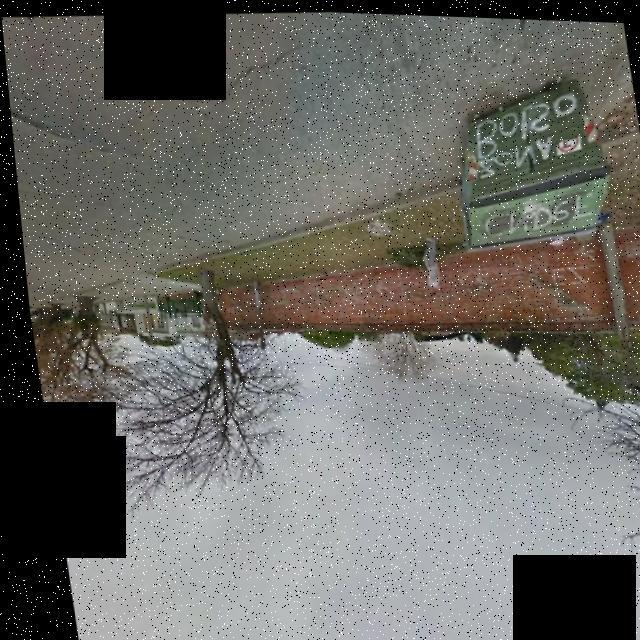bin: (417, 51, 632, 270)
